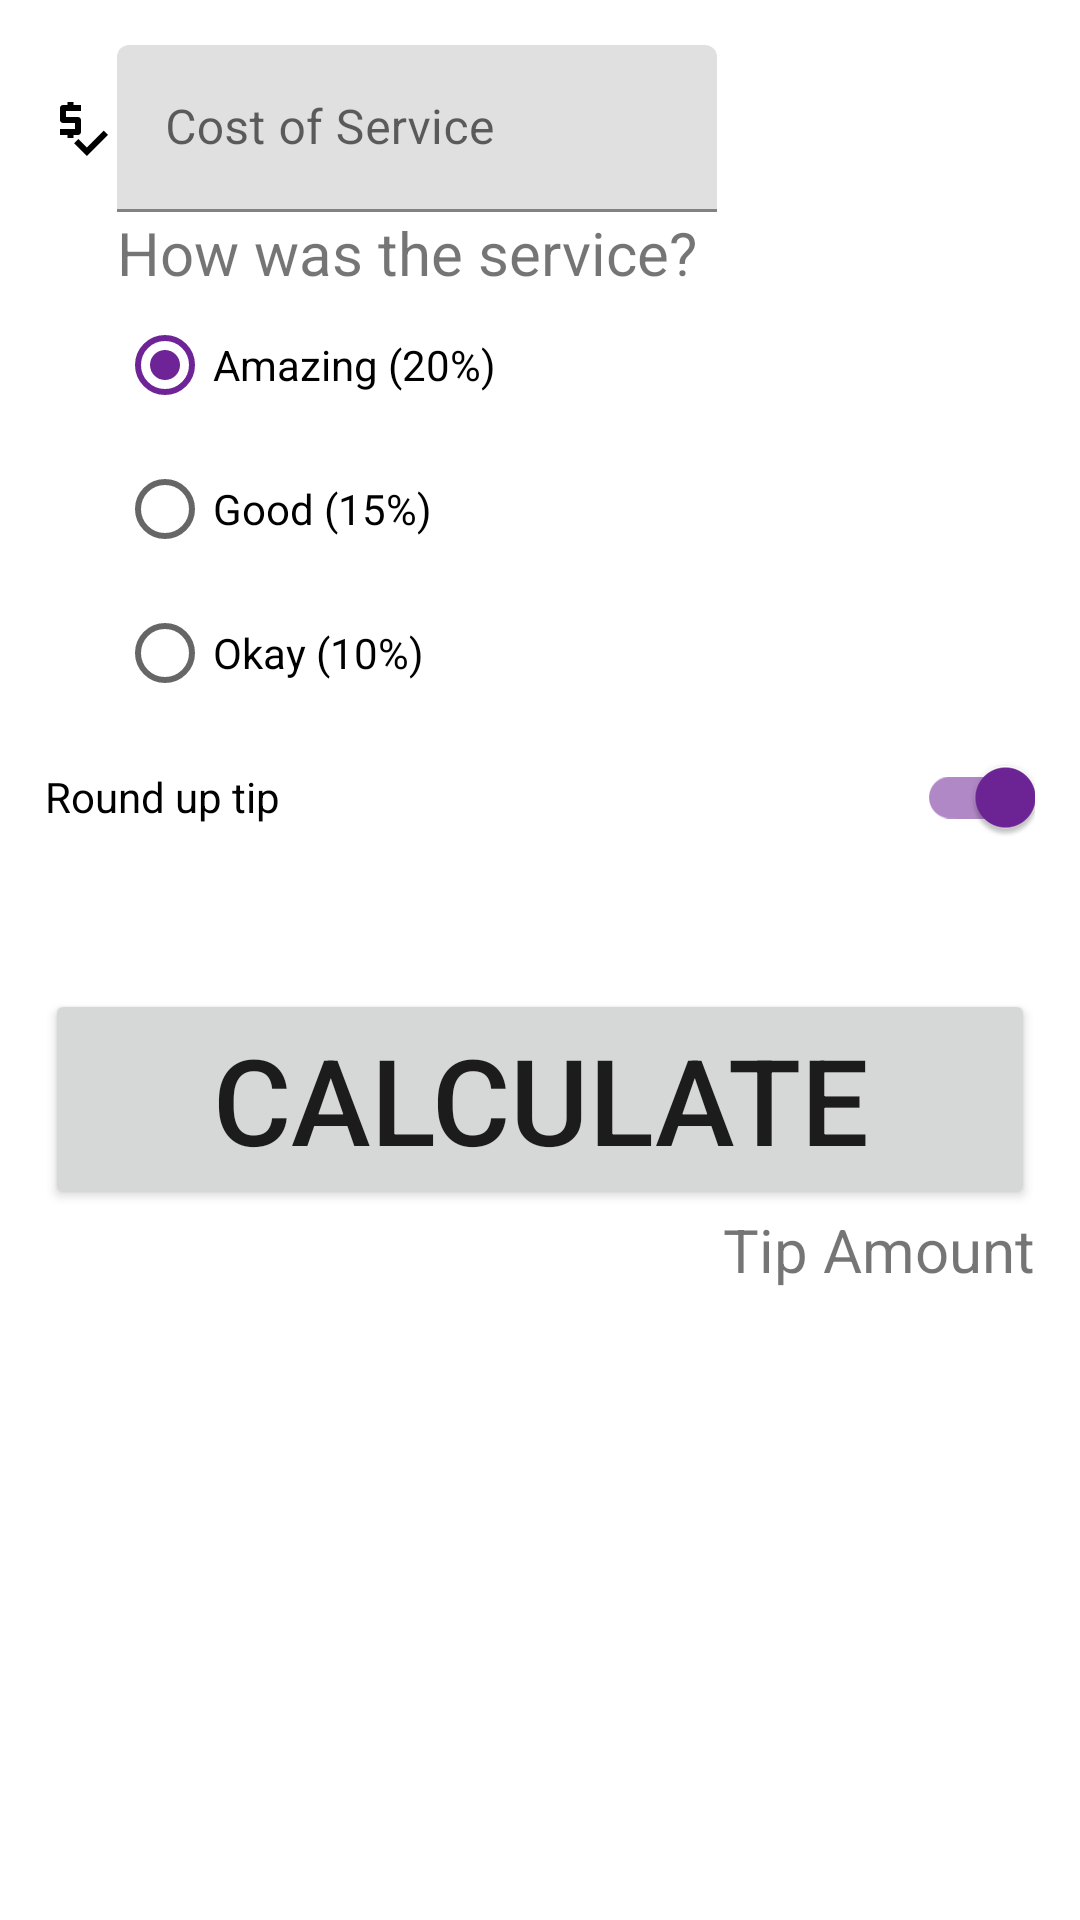

Screen size 1080px x 1920px. Icon name, then its box in pixels as (x1, y1, x2, y2):
tips price check: (60, 102, 108, 156)
